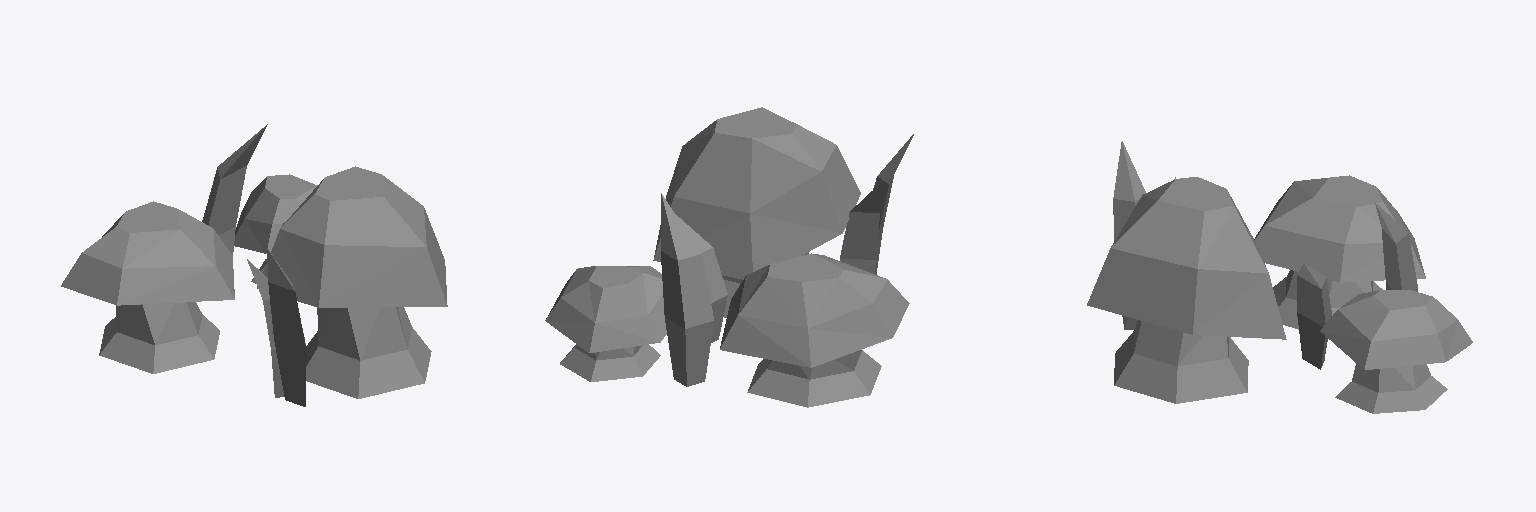
File: mushroom.obj
3 renders of one model, left to right at view 1: azimuth 30°, elevation 25°; view 2: azimuth 150°, elevation 25°; view 3: azimuth 270°, elevation 25°, orthographic.
Visible parts, largest first — view 1: deco_mushrooms_A_Mesh.001; view 2: deco_mushrooms_A_Mesh.001; view 3: deco_mushrooms_A_Mesh.001.
Part boxes in pixels (x1,y1,x2,y2): deco_mushrooms_A_Mesh.001: (61, 124, 447, 406); deco_mushrooms_A_Mesh.001: (545, 107, 913, 407); deco_mushrooms_A_Mesh.001: (1087, 141, 1472, 413).
Size of the model in its own units: 1.79 by 0.9343 by 1.87.